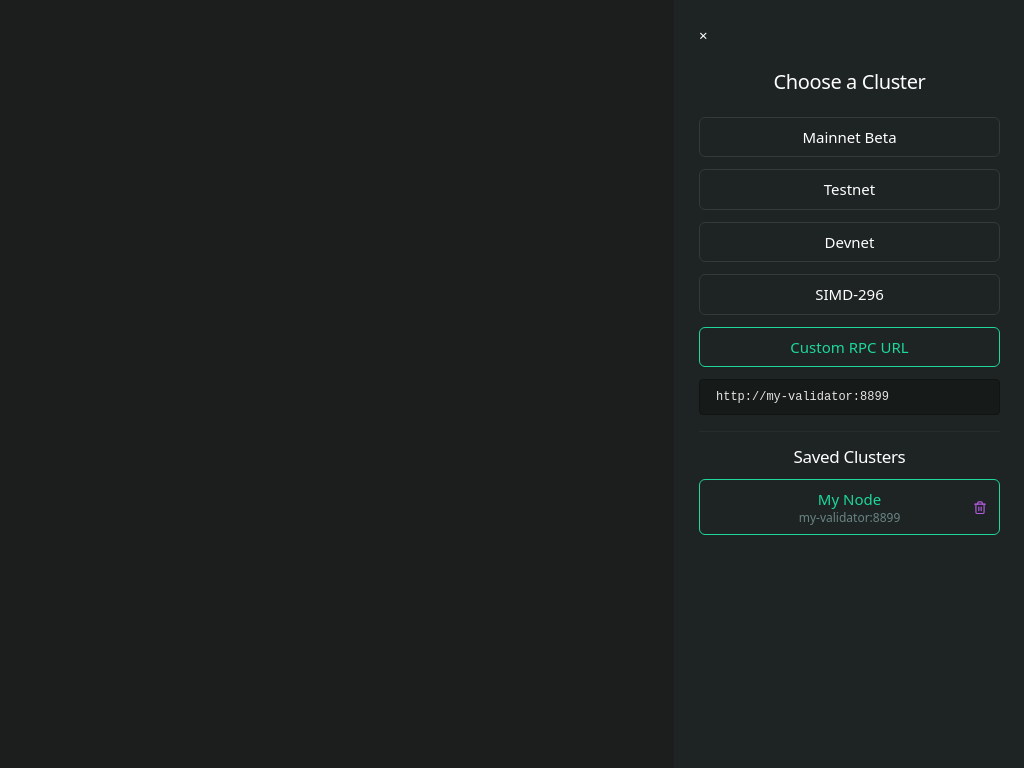
Test case: ClusterModal › should show save button again after deleting the cluster with matching URL
Click the button with test id "delete-cluster-My Node" at [980, 507], box [964,493,996,521]
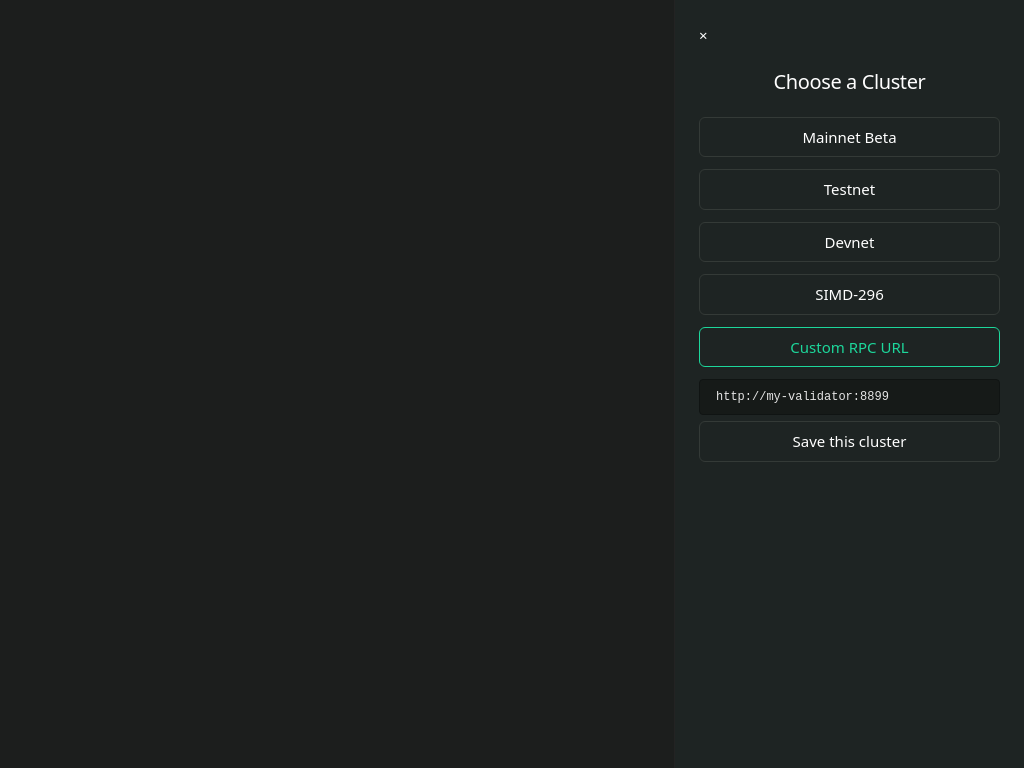
Check: the button with test id "save-custom-cluster-btn" is shown, box [699,421,1000,462]
